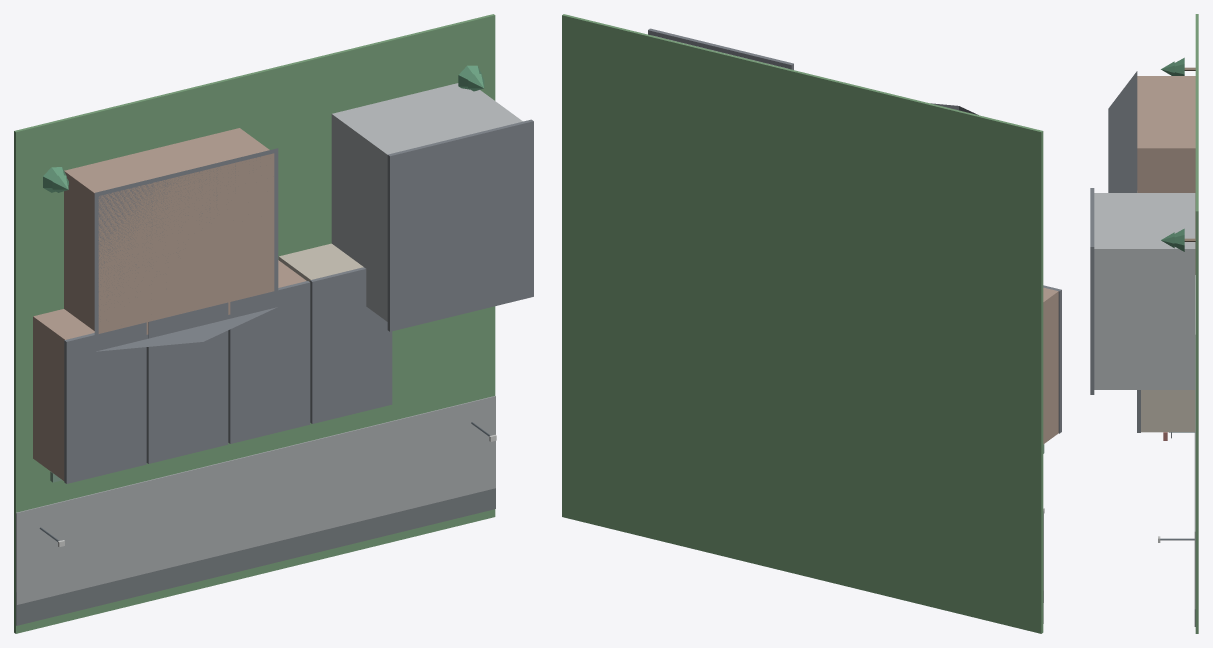
The model's file is city_block_3.glb.
3 views of the same model, side by side, from view 1: azimuth 30°, elevation 25°; view 2: azimuth 150°, elevation 25°; view 3: azimuth 270°, elevation 25° (orthographic). The views are drawn at different scales.
Parts seen in each view (by area): view 1: roof, grass, paving, brick, concrete, tarmac, cream, tree; view 2: grass, brick, roof; view 3: concrete, brick, roof, grass, cream, tree, paving.
Boxes of the visible parts, x1=… form: roof: x1=64, y1=119, x2=533, y2=483; grass: x1=14, y1=14, x2=495, y2=633; paving: x1=16, y1=396, x2=495, y2=604; brick: x1=33, y1=128, x2=306, y2=480; concrete: x1=331, y1=83, x2=522, y2=321; tarmac: x1=16, y1=488, x2=495, y2=625; cream: x1=278, y1=243, x2=363, y2=281; tree: x1=43, y1=65, x2=484, y2=192; grass: x1=562, y1=14, x2=1043, y2=633; brick: x1=1043, y1=287, x2=1058, y2=444; roof: x1=648, y1=28, x2=1061, y2=433; concrete: x1=1094, y1=193, x2=1195, y2=389; brick: x1=1137, y1=76, x2=1195, y2=274; roof: x1=1090, y1=71, x2=1171, y2=438; grass: x1=1195, y1=14, x2=1198, y2=633; cream: x1=1141, y1=390, x2=1195, y2=432; tree: x1=1161, y1=57, x2=1184, y2=251; paving: x1=1194, y1=335, x2=1195, y2=609.
Bounding box in the file's own units: 60 × 60 × 13.92.
